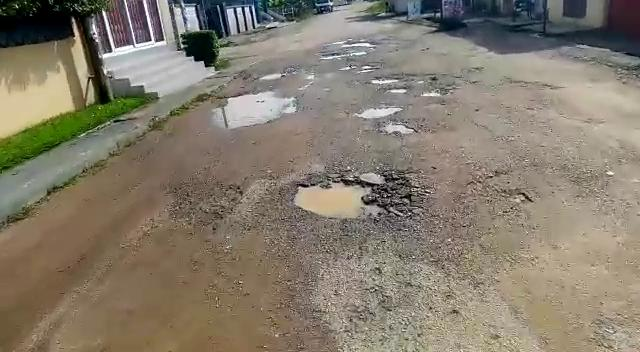pothole: (285, 171, 419, 222), (213, 89, 298, 128), (375, 118, 426, 136), (350, 105, 403, 120), (340, 62, 380, 72), (367, 75, 406, 83), (255, 72, 288, 81), (417, 89, 448, 98), (384, 87, 408, 94)
